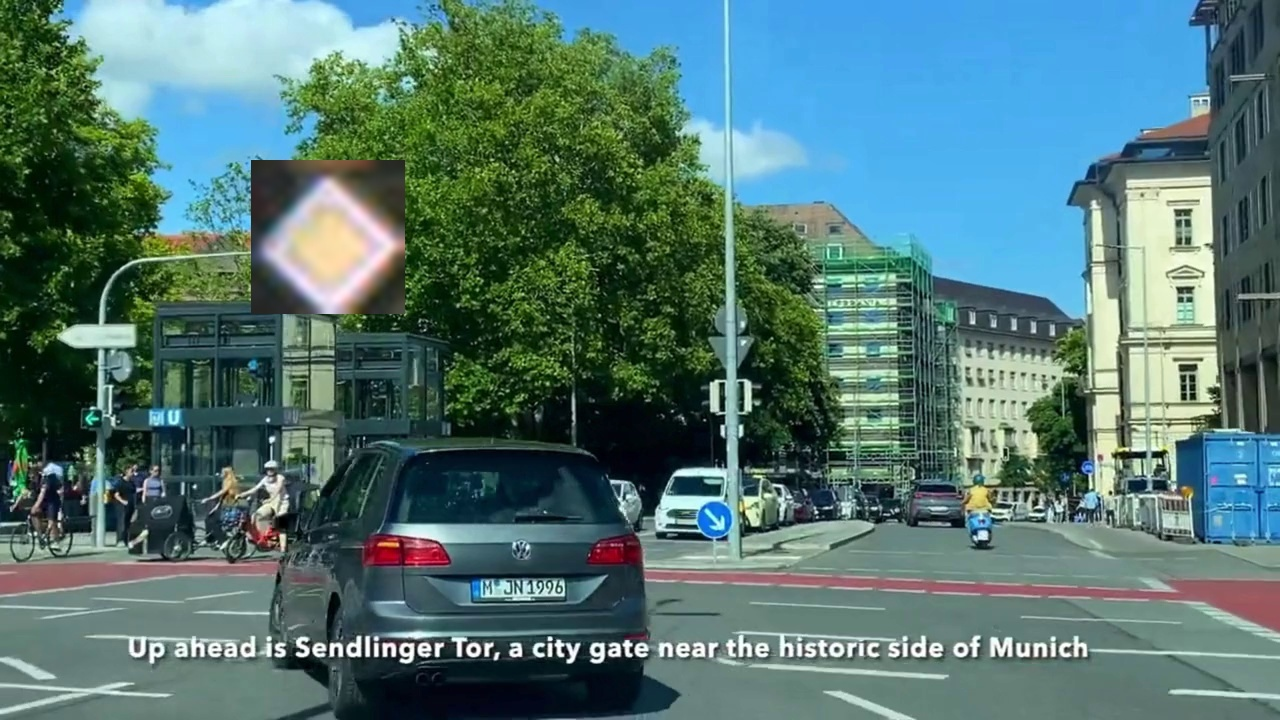Priority road: (251, 160, 405, 314)
